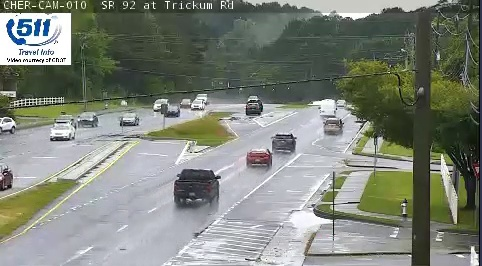car: (173, 169, 219, 199), (246, 150, 272, 166), (272, 133, 296, 150), (323, 118, 343, 136)
van: (319, 99, 335, 120)
